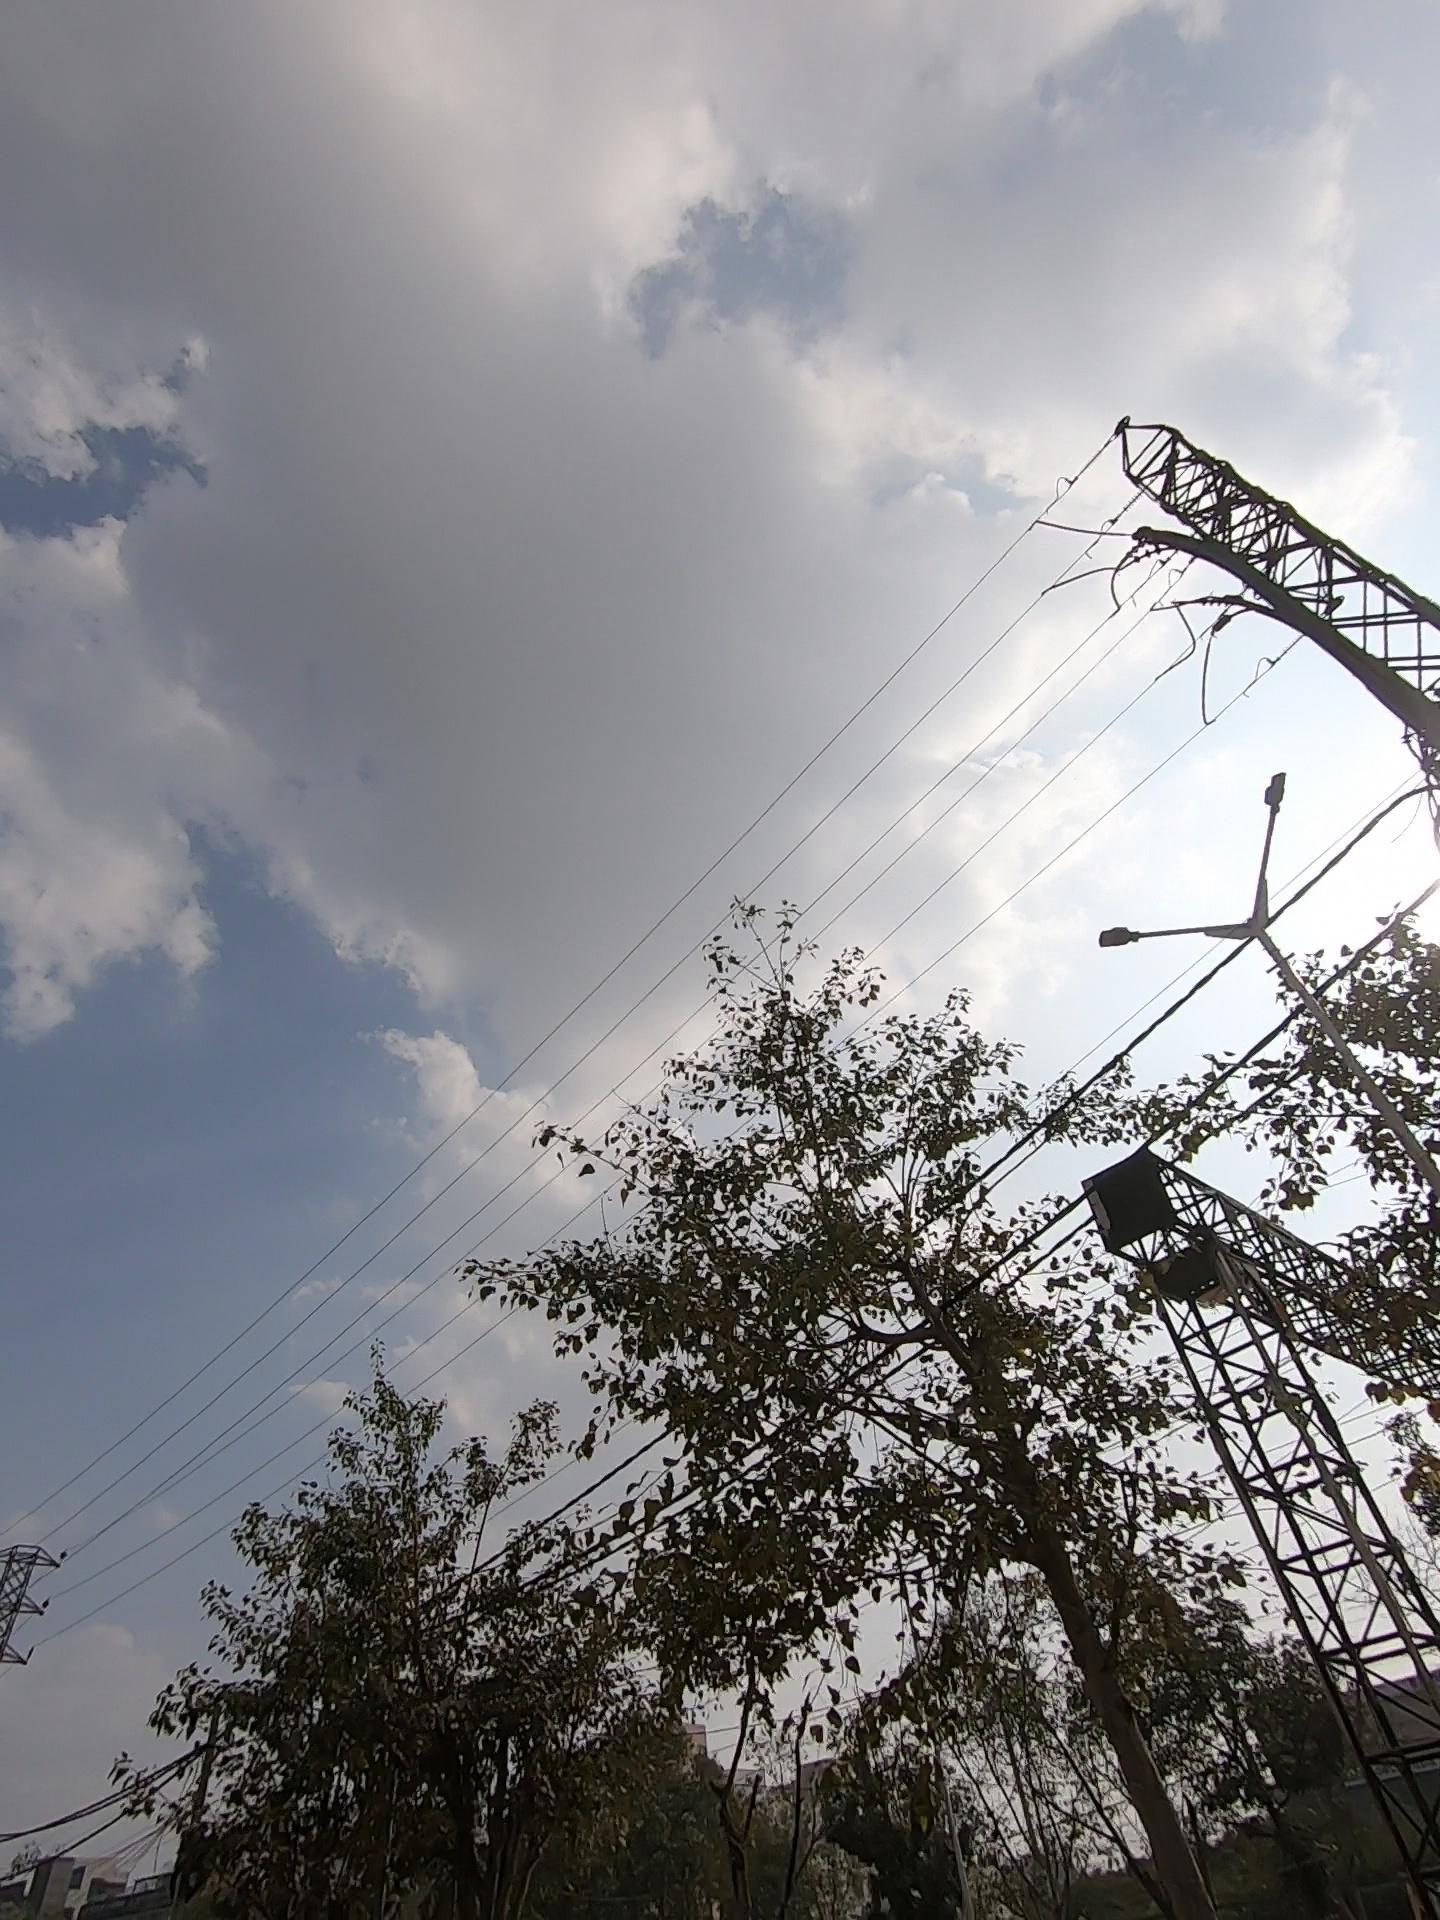off: (1045, 721, 1379, 1011)
